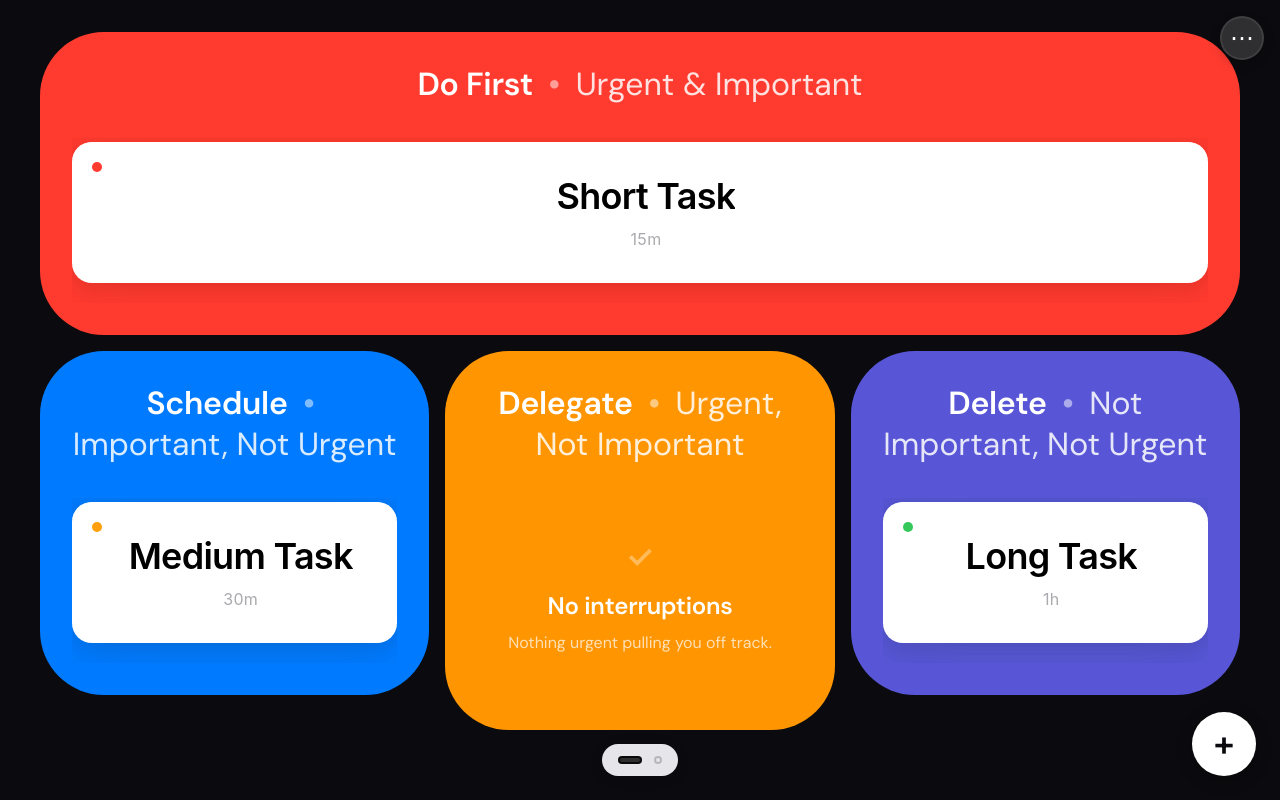
Right Now View › renders Right Now view with tasks sorted correctly
// Switch to Right Now view
Click the button with test id "page-dot-rightNow" at (658, 760), box [654,756,662,764]
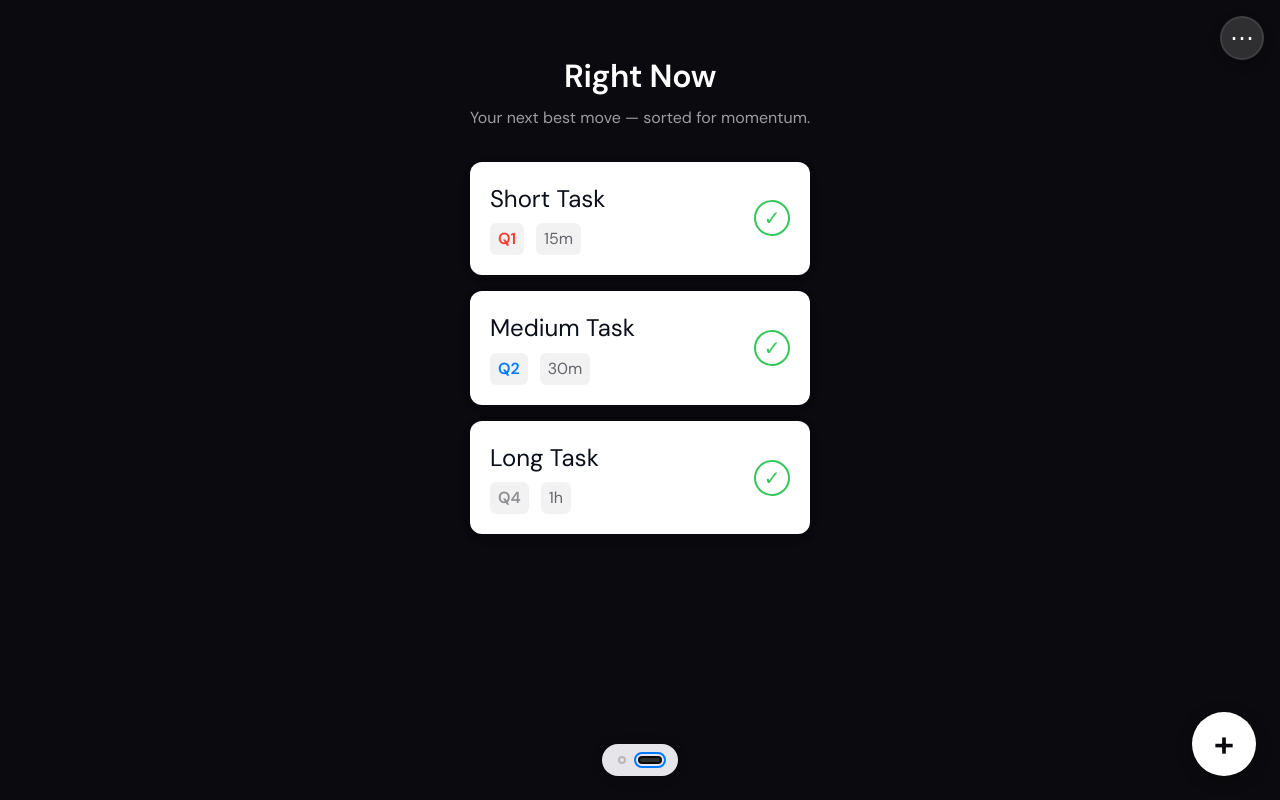
Expected: the element with test id "right-now-view" is shown, [446,32,834,558]
Expected: the element with test id "^right-now-task-" shows "Short Task", [490,183,605,214]
Expected: the element with test id "^right-now-task-" shows "Medium Task", [490,312,635,343]
